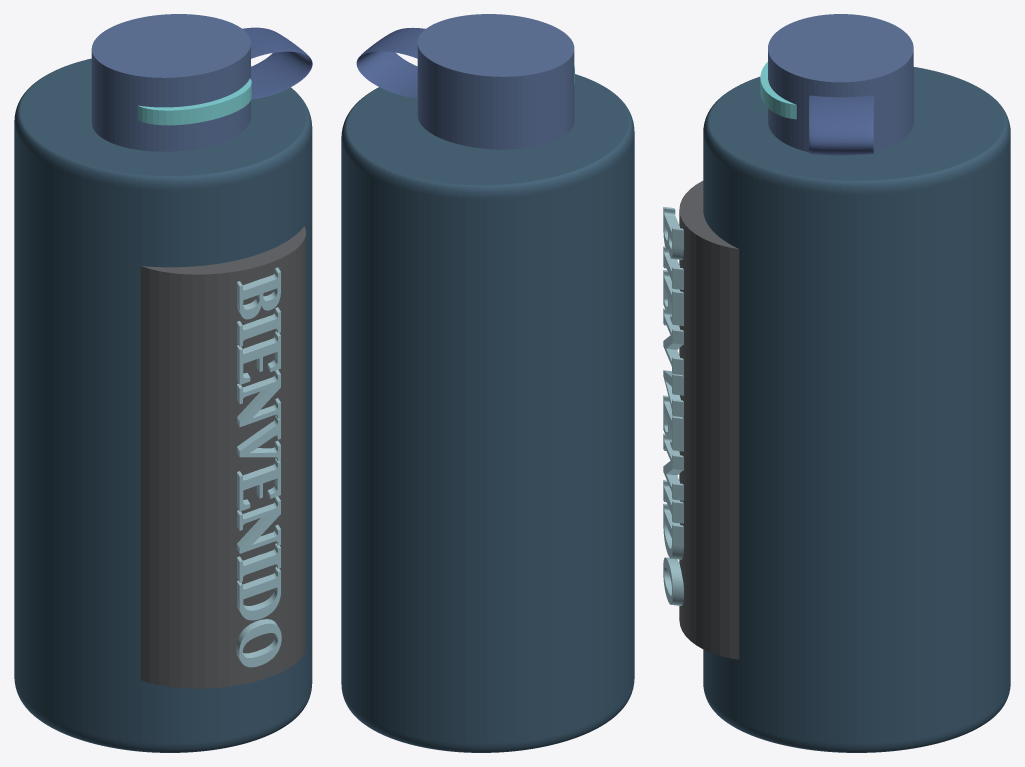
Rendered from Diseño AquaSense.glb.
3 views of the same model, side by side, from view 1: azimuth 30°, elevation 25°; view 2: azimuth 150°, elevation 25°; view 3: azimuth 270°, elevation 25° (orthographic).
Parts seen in each view (by area): view 1: Mesh_Mesh_head_geo.001_lambert2SG.001; view 2: Mesh_Mesh_head_geo.001_lambert2SG.001; view 3: Mesh_Mesh_head_geo.001_lambert2SG.001.
Part boxes in pixels (<box>): Mesh_Mesh_head_geo.001_lambert2SG.001: <box>14,14,312,752</box>; Mesh_Mesh_head_geo.001_lambert2SG.001: <box>341,14,634,752</box>; Mesh_Mesh_head_geo.001_lambert2SG.001: <box>663,14,1010,752</box>.
Size of the model in its own units: 18 by 44 by 21.47.
